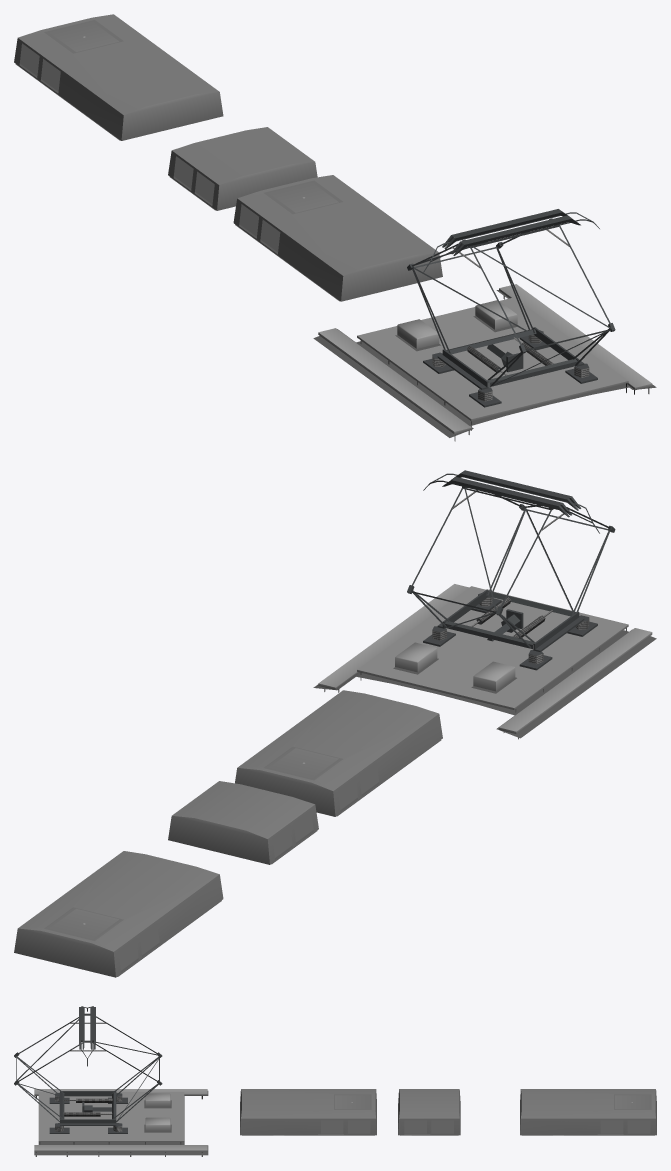
The model's file is PANO_PANTA.glb.
The picture shows the model from 3 angles, top to bottom: view 1: azimuth 30°, elevation 25°; view 2: azimuth 150°, elevation 25°; view 3: azimuth 270°, elevation 25°; orthographic projection. The views are drawn at different scales.
Parts seen in each view (by area): view 1: obj17; view 2: obj17; view 3: obj17.
Part boxes in pixels (bbox=[...]): obj17: bbox=[14, 14, 656, 441]; obj17: bbox=[14, 470, 656, 977]; obj17: bbox=[14, 1006, 656, 1156].
Bounding box in the file's own units: 6.1 × 4.54 × 25.69.
9 materials, 9 textured.
